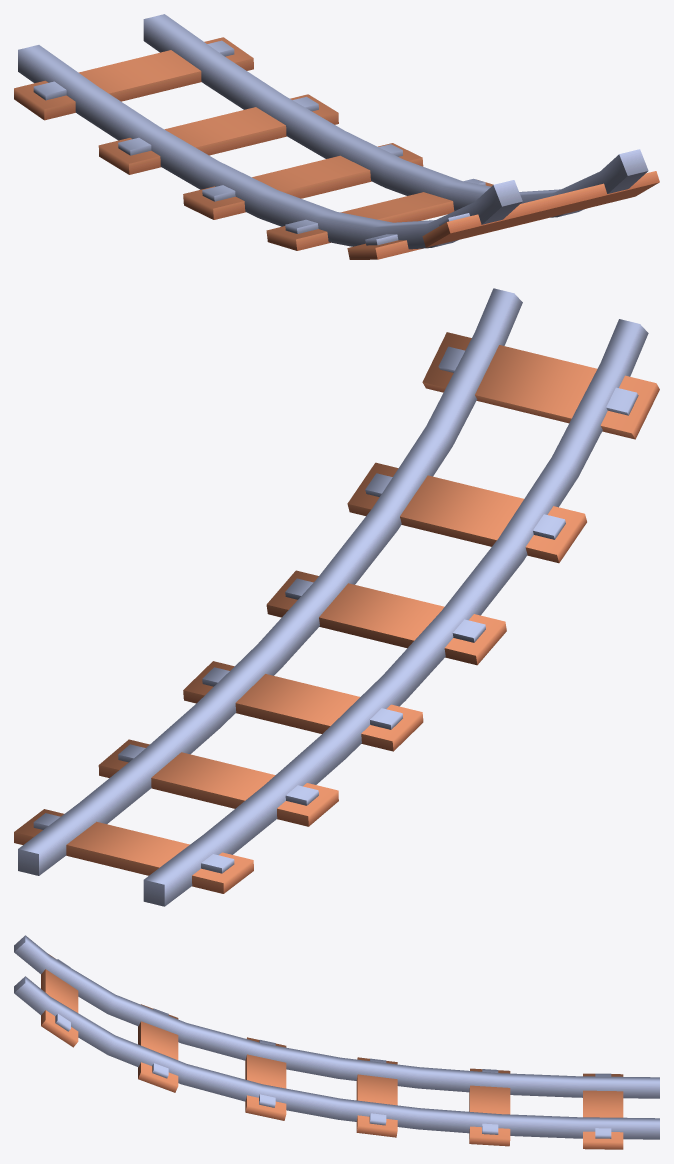
The model's file is kenney-train-railroad-straight-hill-beginning.glb.
3 renders of one model, top to bottom at view 1: azimuth 30°, elevation 25°; view 2: azimuth 150°, elevation 25°; view 3: azimuth 270°, elevation 25°, orthographic. The views are drawn at different scales.
Parts seen in each view (by area): view 1: railroad-straight-hill-beginning; view 2: railroad-straight-hill-beginning; view 3: railroad-straight-hill-beginning.
Boxes of the visible parts, box(x1,y1,x2,y2) form: railroad-straight-hill-beginning: box(14, 14, 659, 259); railroad-straight-hill-beginning: box(14, 288, 659, 906); railroad-straight-hill-beginning: box(14, 935, 659, 1149).
Size of the model in its own units: 1 by 1.07 by 4.
Materials: 1 (1 with a texture image).
